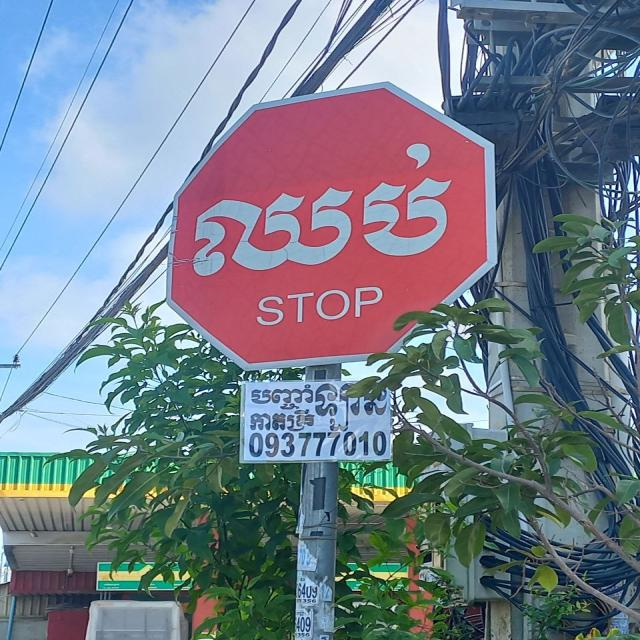457: (245, 428, 389, 458)
894: (189, 131, 469, 289)
Yolov11_80vkh: (249, 384, 316, 410), (249, 410, 319, 431)
